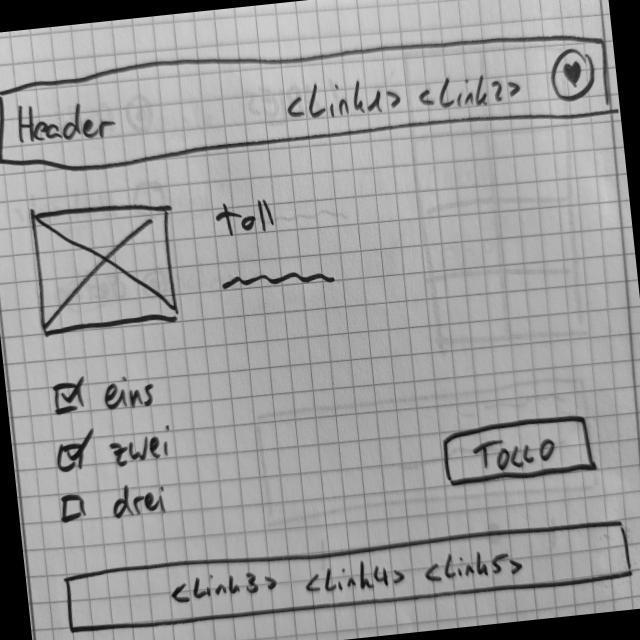button: (440, 413, 599, 490)
checkbox: (51, 416, 178, 478), (57, 478, 173, 532), (49, 366, 162, 420)
container: (1, 13, 618, 186), (61, 510, 640, 640)
image: (29, 195, 186, 343)
label: (12, 91, 122, 150), (212, 194, 285, 244)
link: (284, 70, 405, 129), (415, 66, 525, 116), (169, 562, 281, 608), (303, 554, 410, 601), (422, 543, 526, 587)
text: (218, 261, 341, 300)
